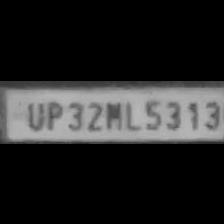1: (182, 98, 200, 130)
2: (83, 97, 103, 131)
3: (200, 98, 222, 130), (162, 96, 182, 130), (64, 98, 84, 130)
5: (140, 96, 162, 132)
L: (122, 97, 140, 131)
M: (103, 97, 123, 131)
P: (43, 98, 62, 130)
U: (22, 98, 44, 130)
